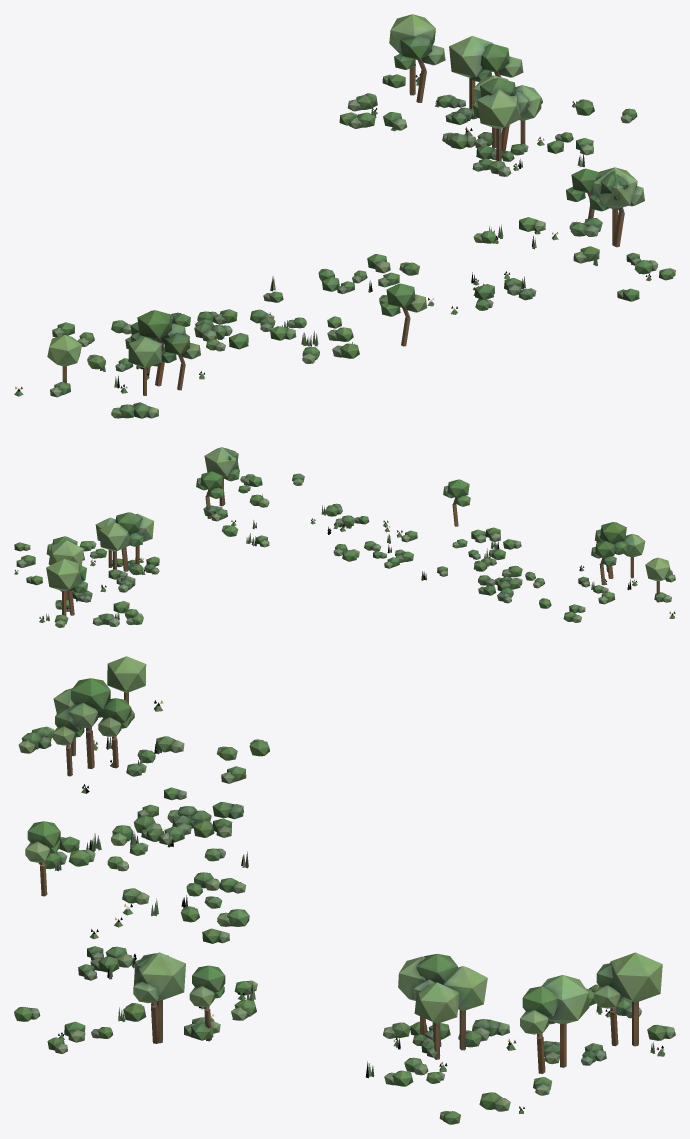
File: groves-wild.glb
3 renders of one model, top to bottom at view 1: azimuth 30°, elevation 25°; view 2: azimuth 150°, elevation 25°; view 3: azimuth 270°, elevation 25°, orthographic. The views are drawn at different scales.
Parts seen in each view (by area): view 1: groves-wild; view 2: groves-wild; view 3: groves-wild.
Boxes of the visible parts, x1,y1,x2,y2 form: groves-wild: [14, 14, 675, 418]; groves-wild: [14, 447, 675, 627]; groves-wild: [14, 656, 675, 1124].
Size of the model in its own units: 6.55 by 0.7178 by 4.34.
1 material, 1 textured.
